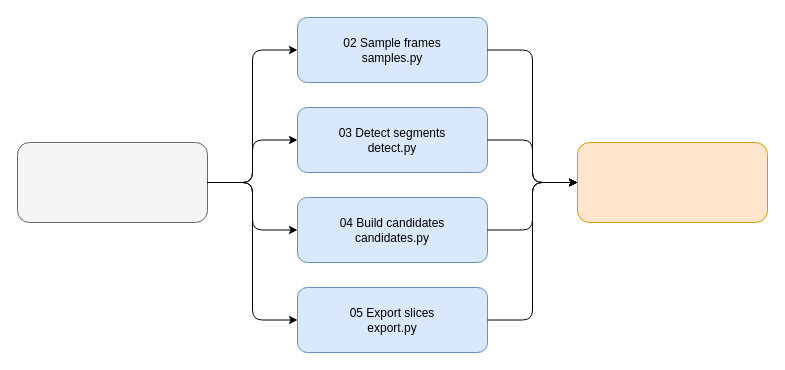
The diagram is 785 pixels wide and 370 high, and some of its shapes have lost their labels. The box of each missing label's shape, as (x1, y1, x2, y2) in pixels:
01 Foundation media.py, conftest.py, pyproject.toml: (16, 142, 208, 222)
06 Skill workflow SKILL.md, CLAUDE.md, README.md: (576, 142, 768, 222)
